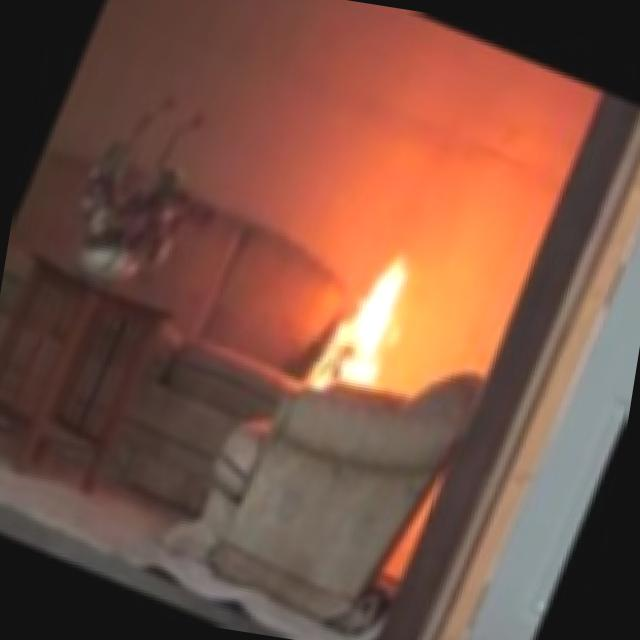fire: (303, 221, 460, 412)
